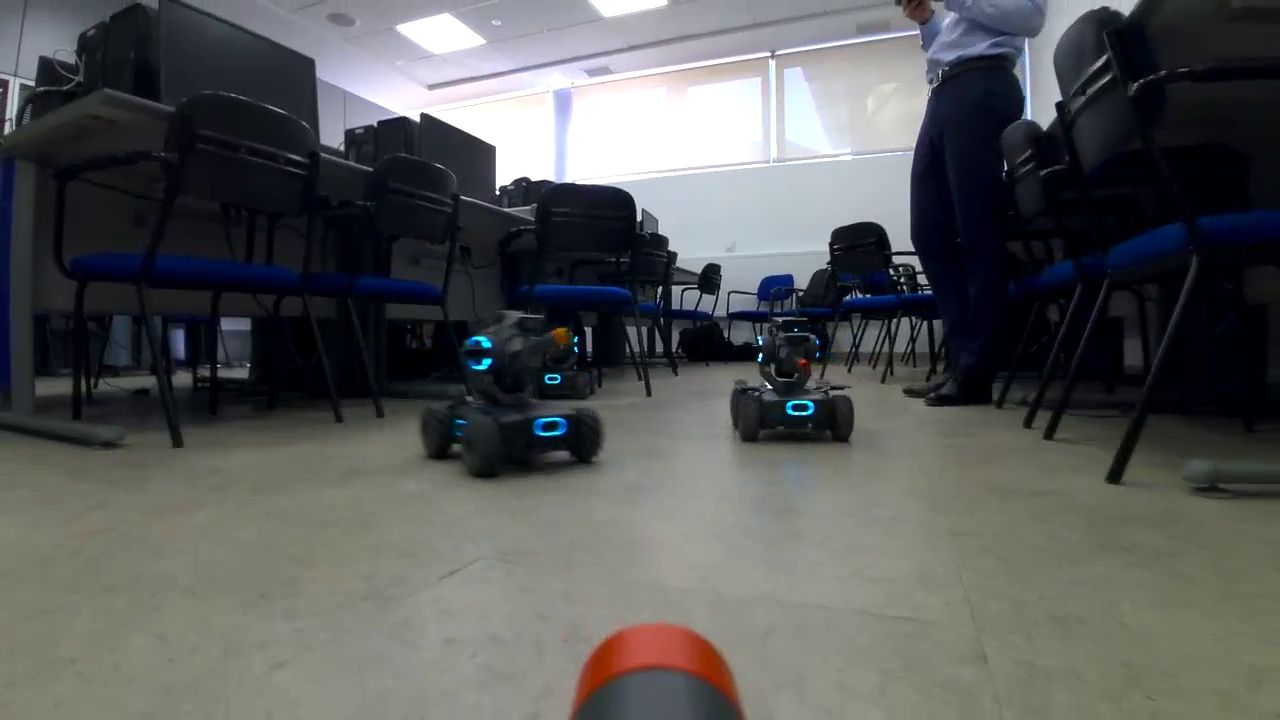robot: (407, 302, 608, 478), (725, 316, 867, 451)
